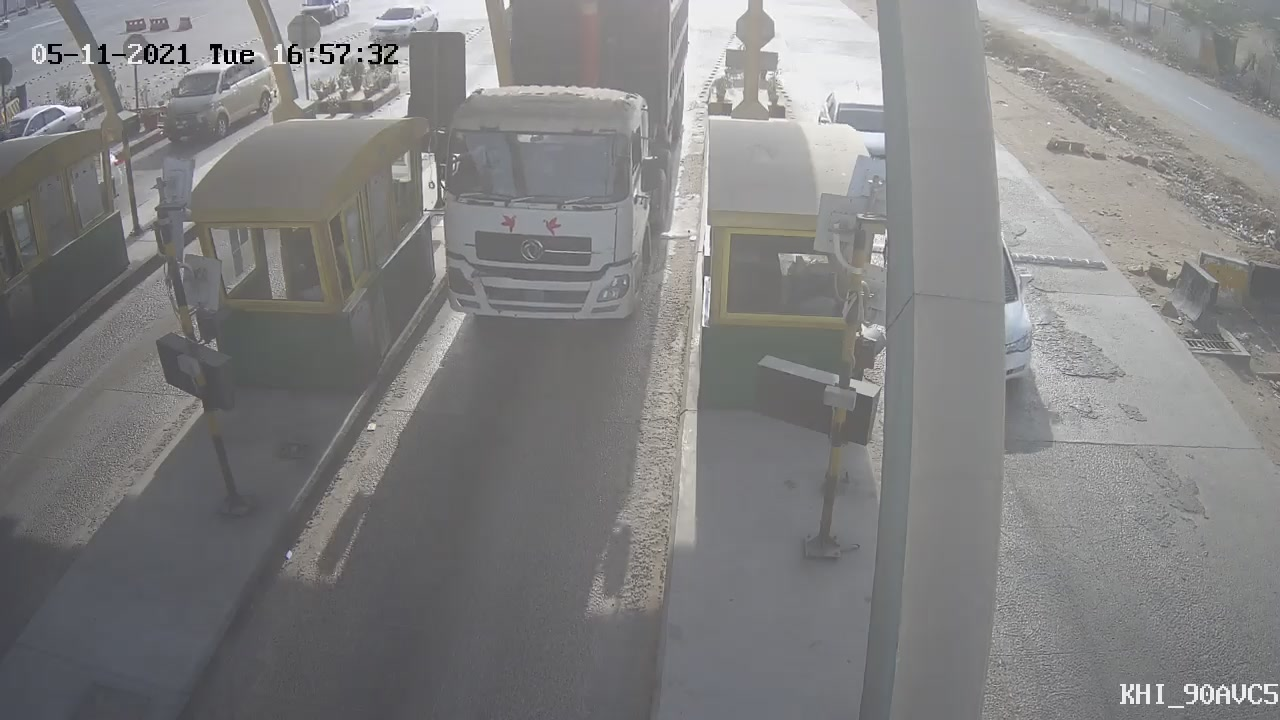F6: (389, 3, 716, 343)
